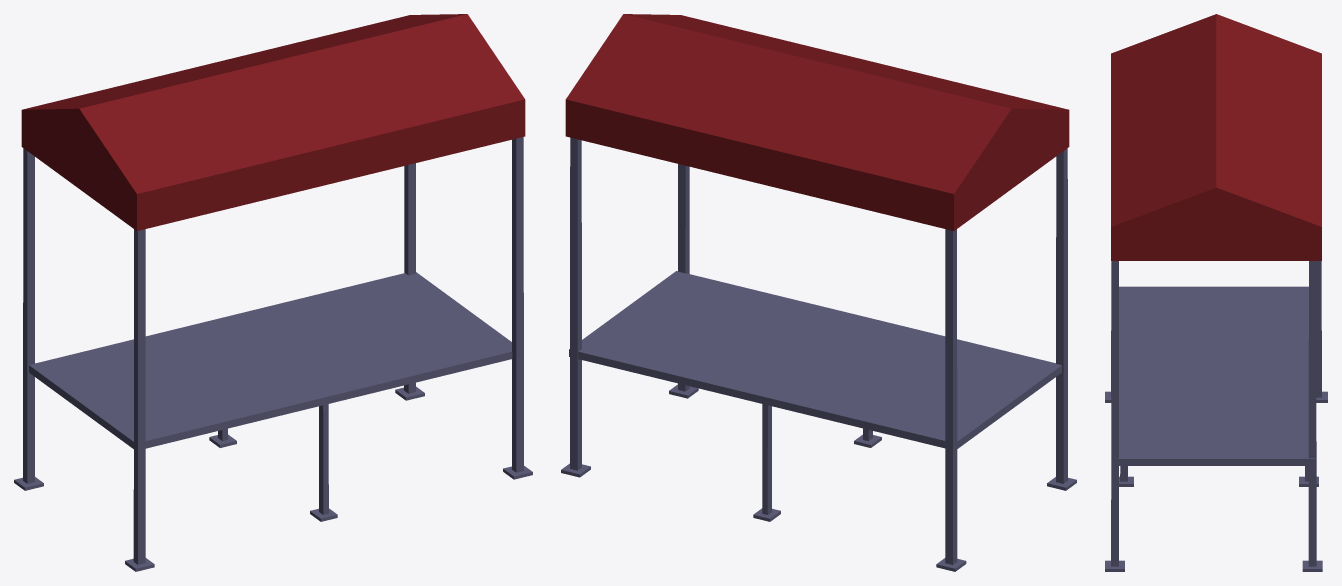
Rendered from Market_Stall.fbx.
3 views of the same model, side by side, from view 1: azimuth 30°, elevation 25°; view 2: azimuth 150°, elevation 25°; view 3: azimuth 270°, elevation 25° (orthographic). The views are drawn at different scales.
Visible parts, largest first — view 1: Stall_MarketStall_01; view 2: Stall_MarketStall_01; view 3: Stall_MarketStall_01.
Part boxes in pixels (box(x1,y1,x2,y2)): Stall_MarketStall_01: box(14, 14, 532, 571); Stall_MarketStall_01: box(561, 14, 1076, 571); Stall_MarketStall_01: box(1105, 14, 1327, 571).
Size of the model in its own units: 3.18 by 3.2 by 1.69.
